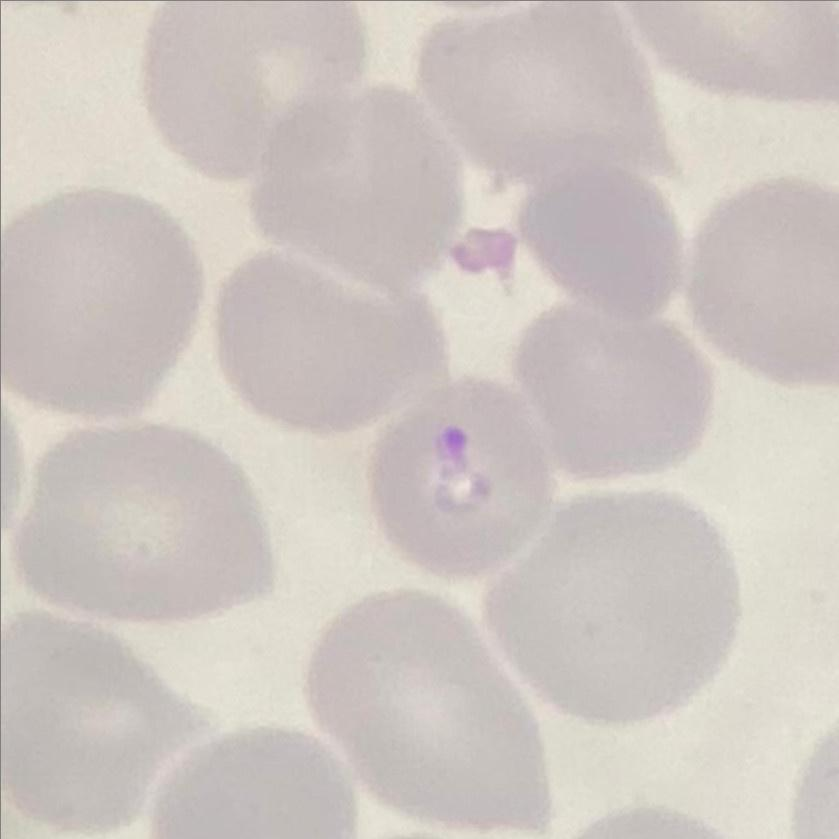Infected: (367, 375, 553, 575)
Uninfected: (308, 587, 551, 831), (490, 490, 741, 724), (18, 420, 278, 616), (422, 7, 691, 190), (0, 191, 203, 423), (245, 74, 466, 286), (0, 612, 210, 828), (218, 247, 449, 434), (145, 0, 371, 184), (517, 300, 714, 475), (687, 177, 839, 382), (518, 157, 685, 315)
